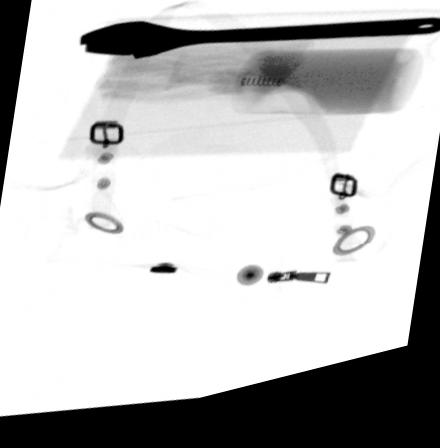Wrench: (78, 26, 440, 68)
